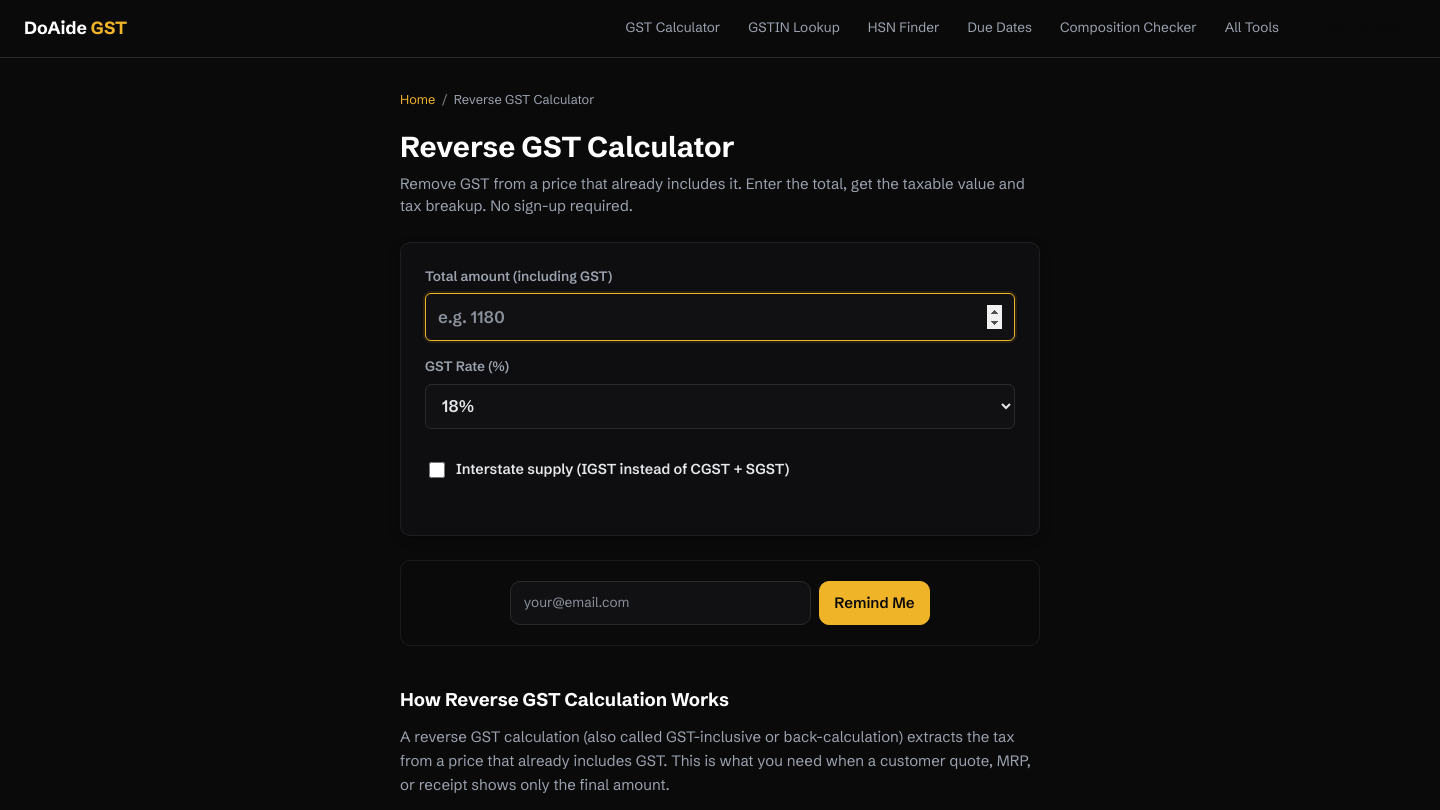
Scenario: ReverseGstCalculatorPage › switches to IGST for interstate supply
Type "1180" into the number field with placeholder "e.g. 1180" at (720, 317), box [425,293,1015,341]
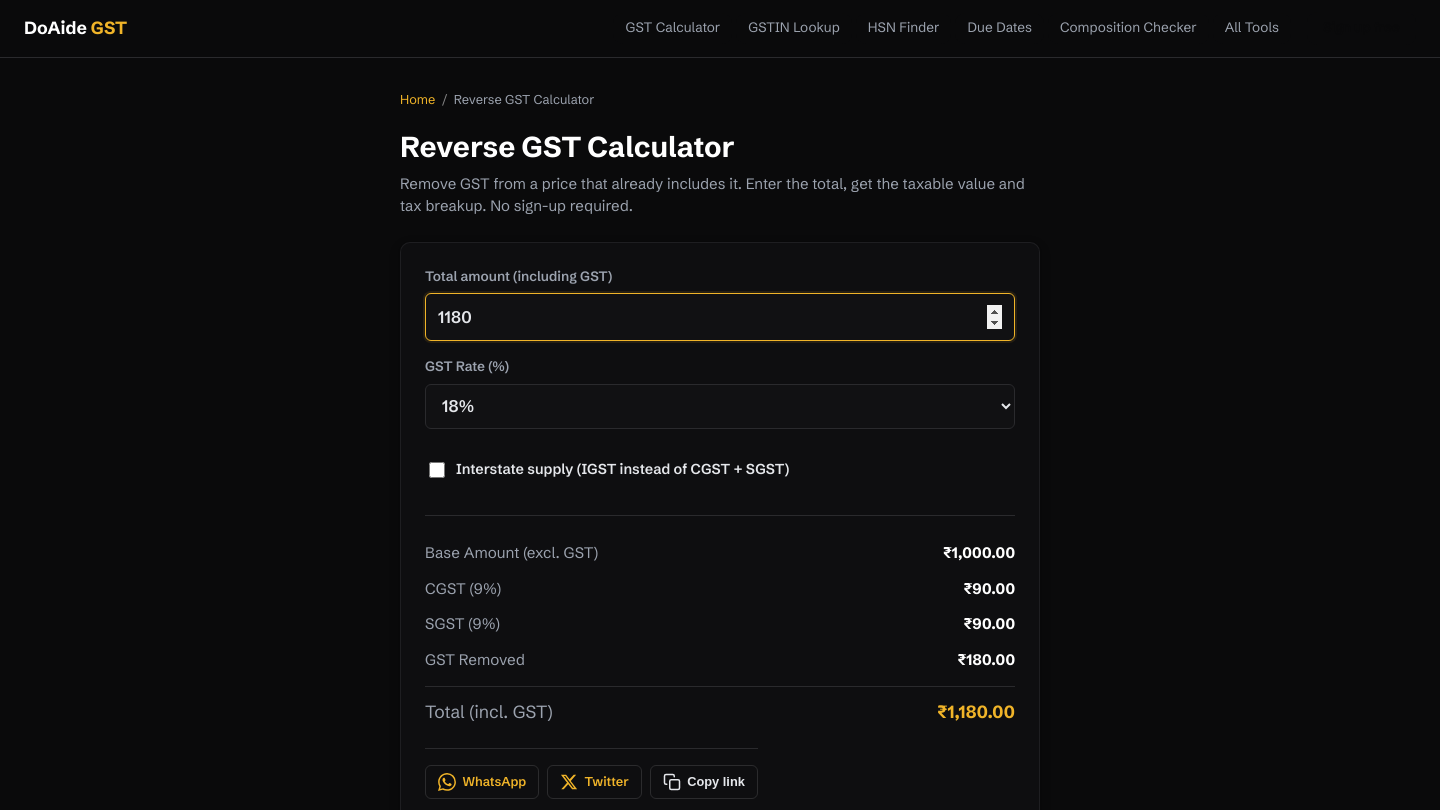
Click the checkbox labelled "Interstate supply (IGST instead of CGST + SGST)" at (437, 470), box [429,448,445,492]
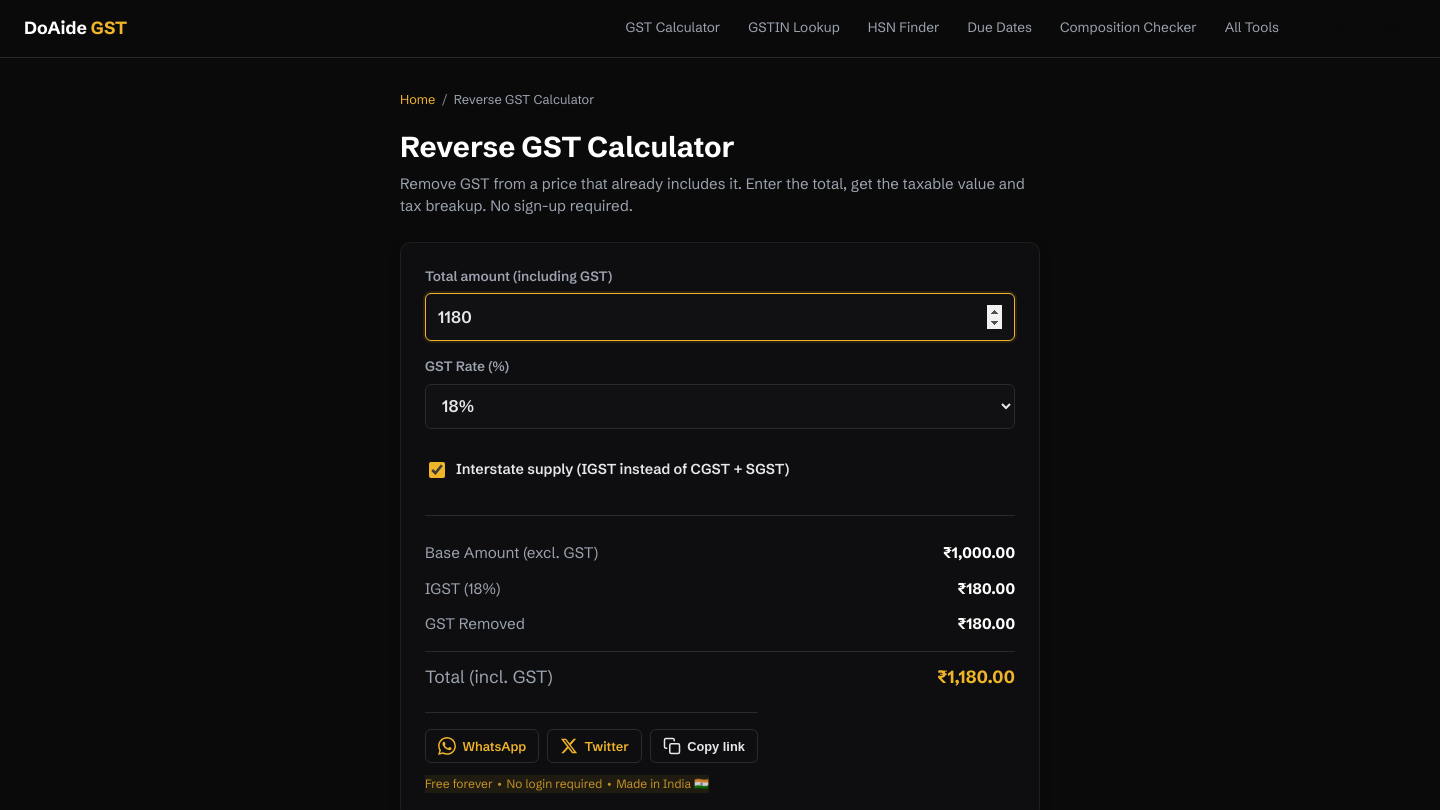
expect the text "IGST (18%)" is shown: met, box [425,578,500,601]
expect the text "CGST (9%)" is gone: met
